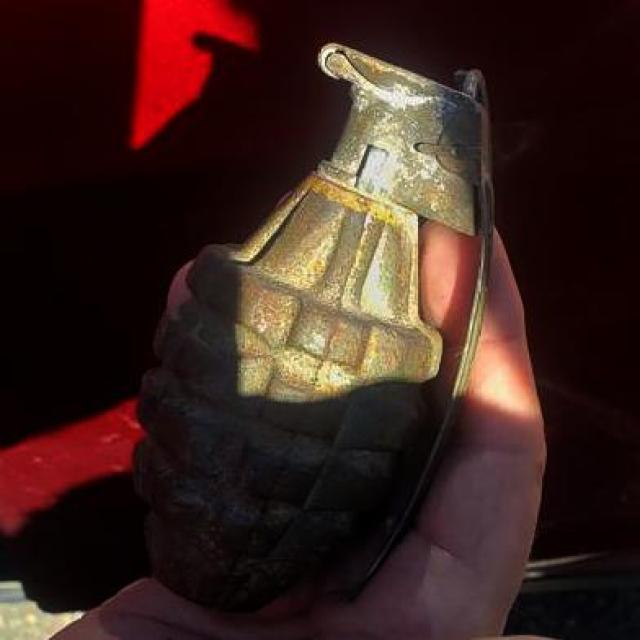grenade: (133, 39, 495, 617)
